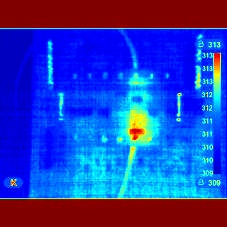High: (110, 109, 161, 148)
